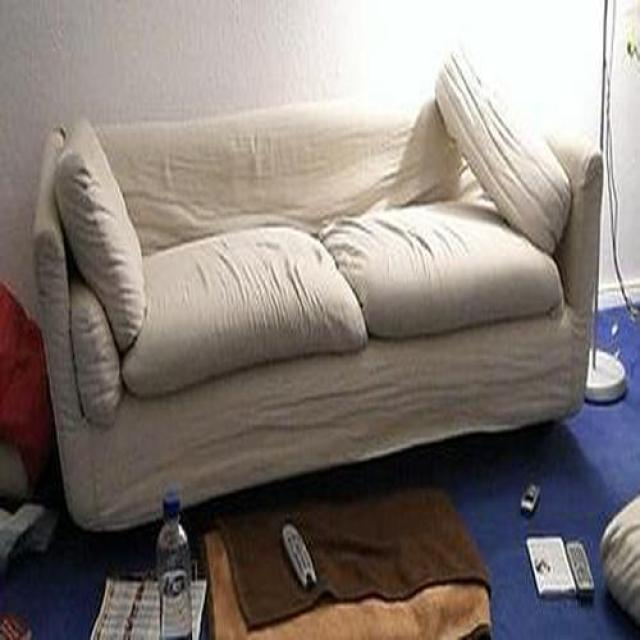sofa: (28, 47, 605, 536)
